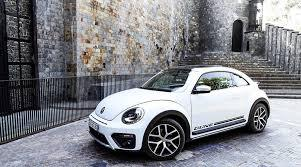volkswagen: (99, 105, 106, 115)
